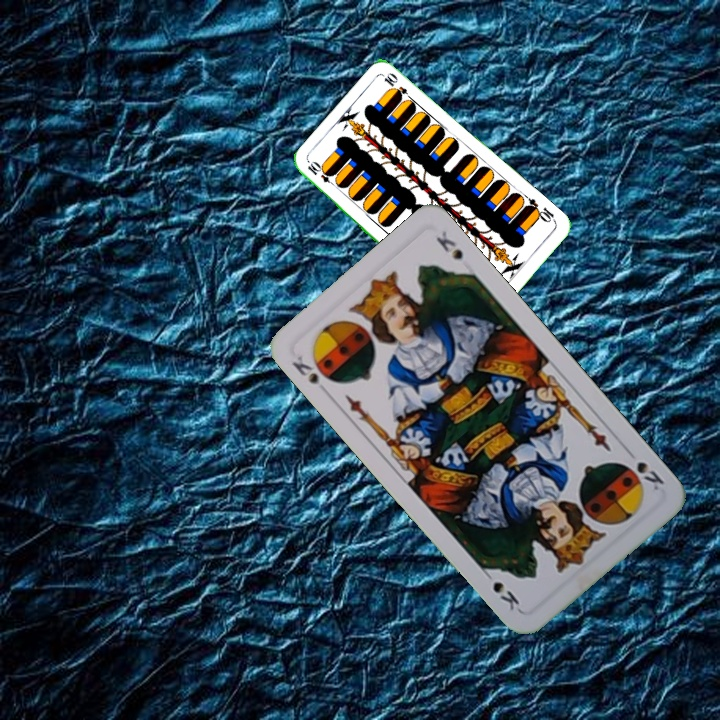E10: (304, 158, 340, 190), (521, 194, 558, 225)
SK: (287, 351, 338, 398), (619, 457, 667, 493)
